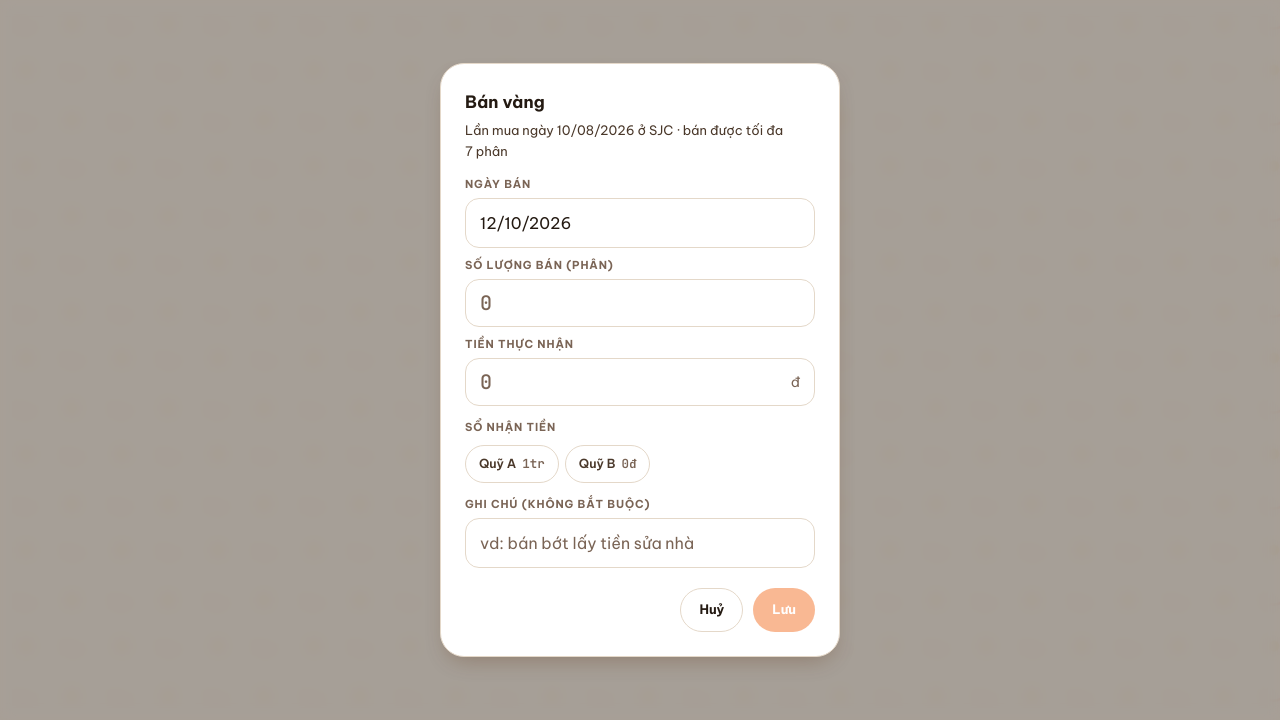
MetalSaleModal › refuses a fractional, zero or too large quantity
The width and height of the screenshot is (1280, 720).
Type "1000000" into the field labelled "Tiền thực nhận".
click(631, 382); type("1000000")  # box [480,359,783,405]
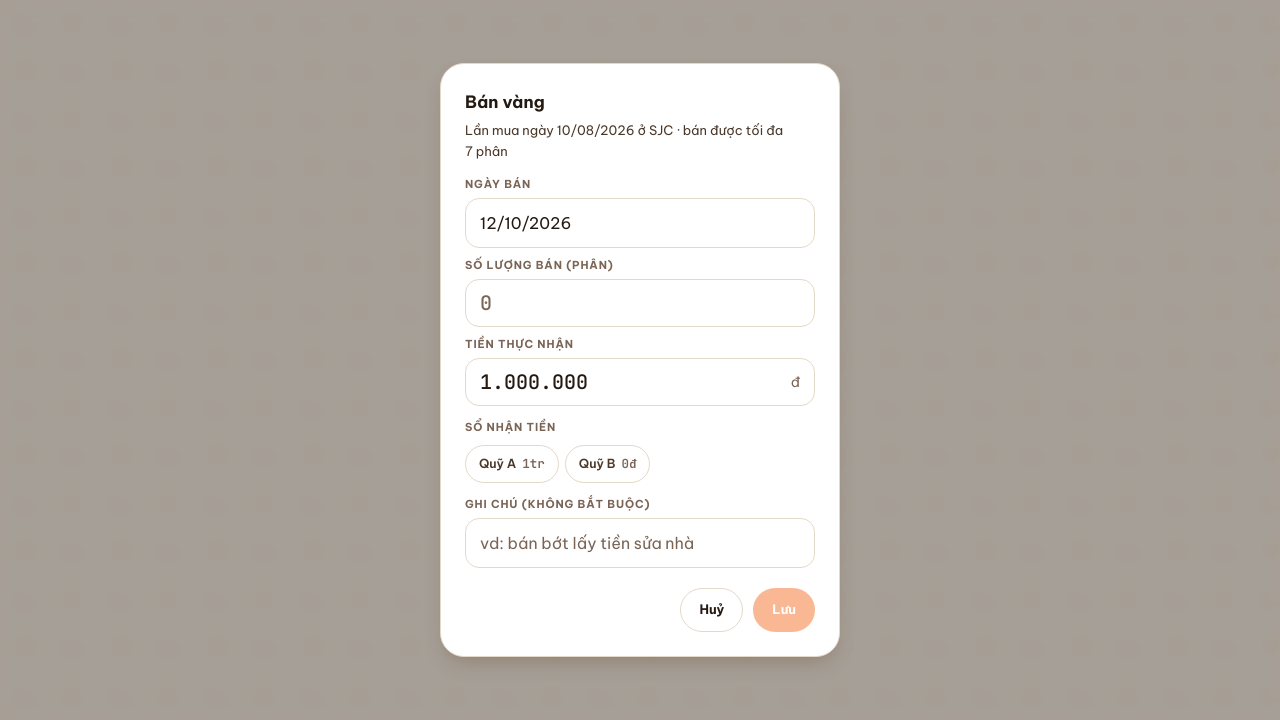
Click the button "Quỹ A1tr".
click(512, 464)  # box [465,445,559,483]
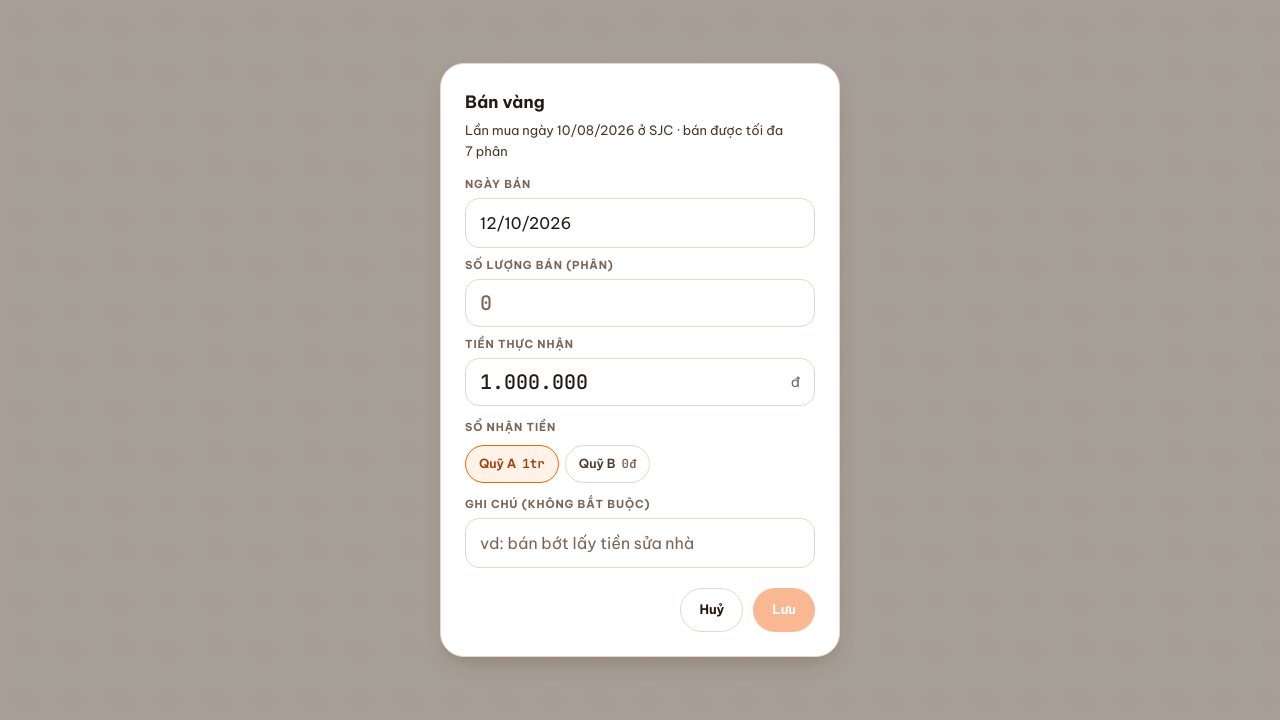
Type "1,5" into the field labelled "Số lượng bán (phân)".
click(640, 303); type("1,5")  # box [480,280,800,326]
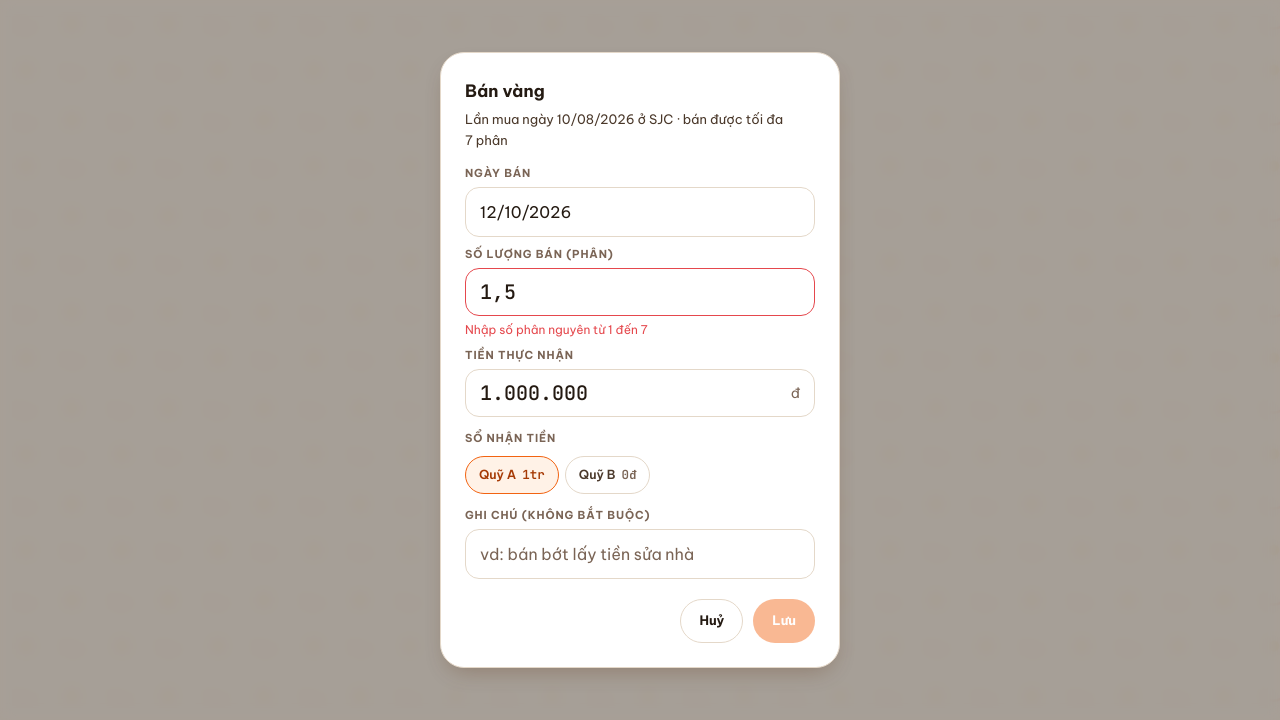
Expected: the button "Lưu" is disabled, [753,599,815,643]
Result: the text "Nhập số phân nguyên từ 1 đến 7" is shown at [465,322,648,337]
Replace the text in the field labelled "Số lượng bán (phân)" with "0" at (640, 292), box [480,269,800,315]
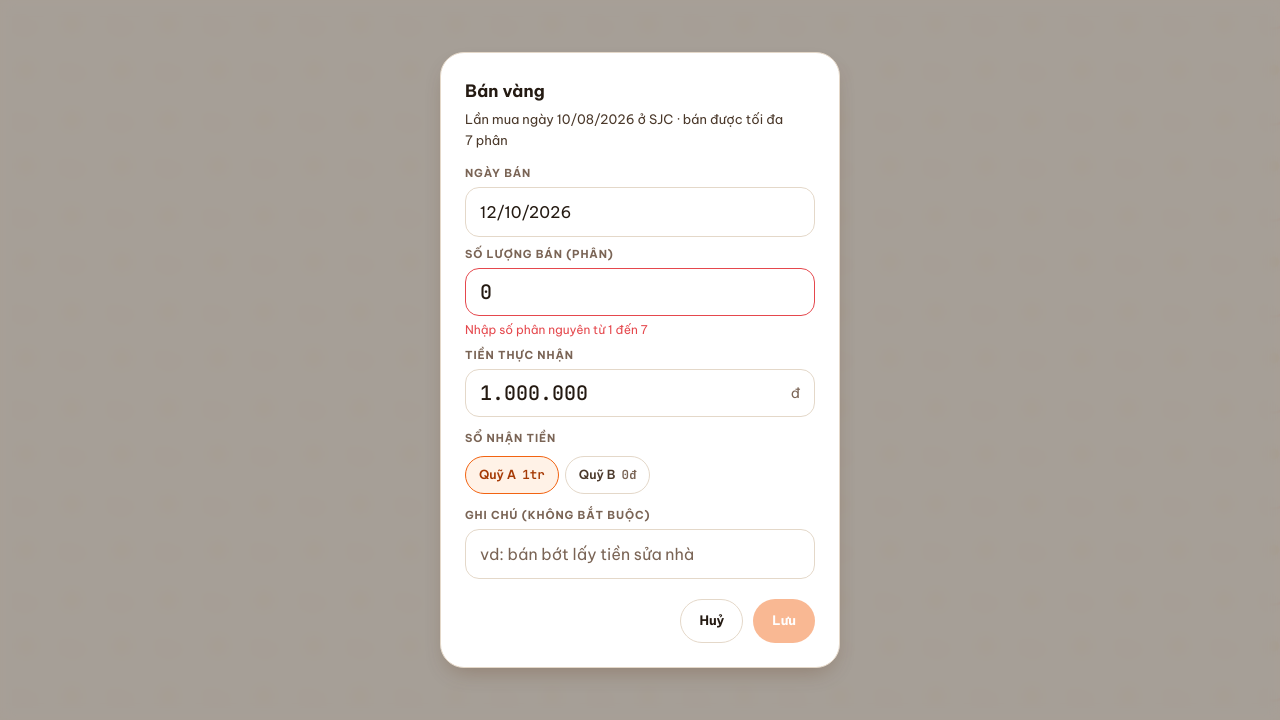
Expected: the button "Lưu" is disabled, [753,599,815,643]
Result: the text "Nhập số phân nguyên từ 1 đến 7" is shown at [465,322,648,337]
Type "8" into the field labelled "Số lượng bán (phân)".
click(640, 292); type("8")  # box [480,269,800,315]
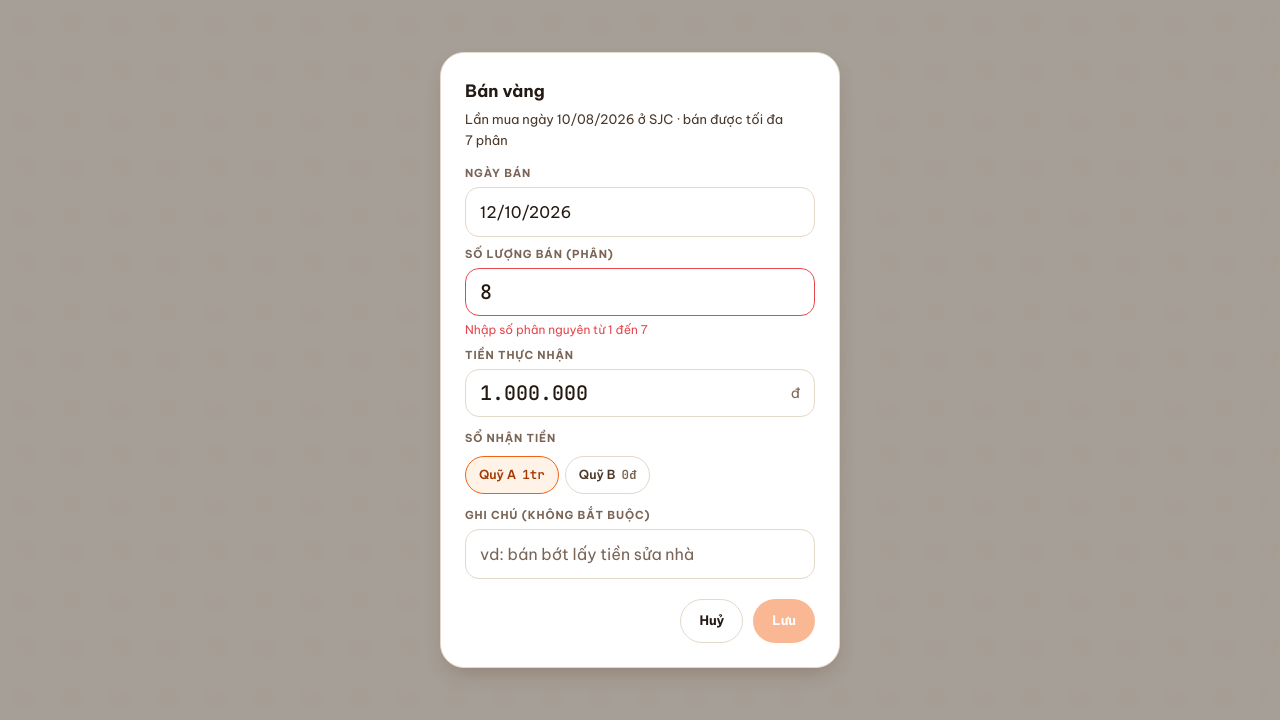
Expected: the button "Lưu" is disabled, [753,599,815,643]
Result: the text "Nhập số phân nguyên từ 1 đến 7" is shown at [465,322,648,337]
Replace the text in the field labelled "Số lượng bán (phân)" with "7" at (640, 292), box [480,269,800,315]
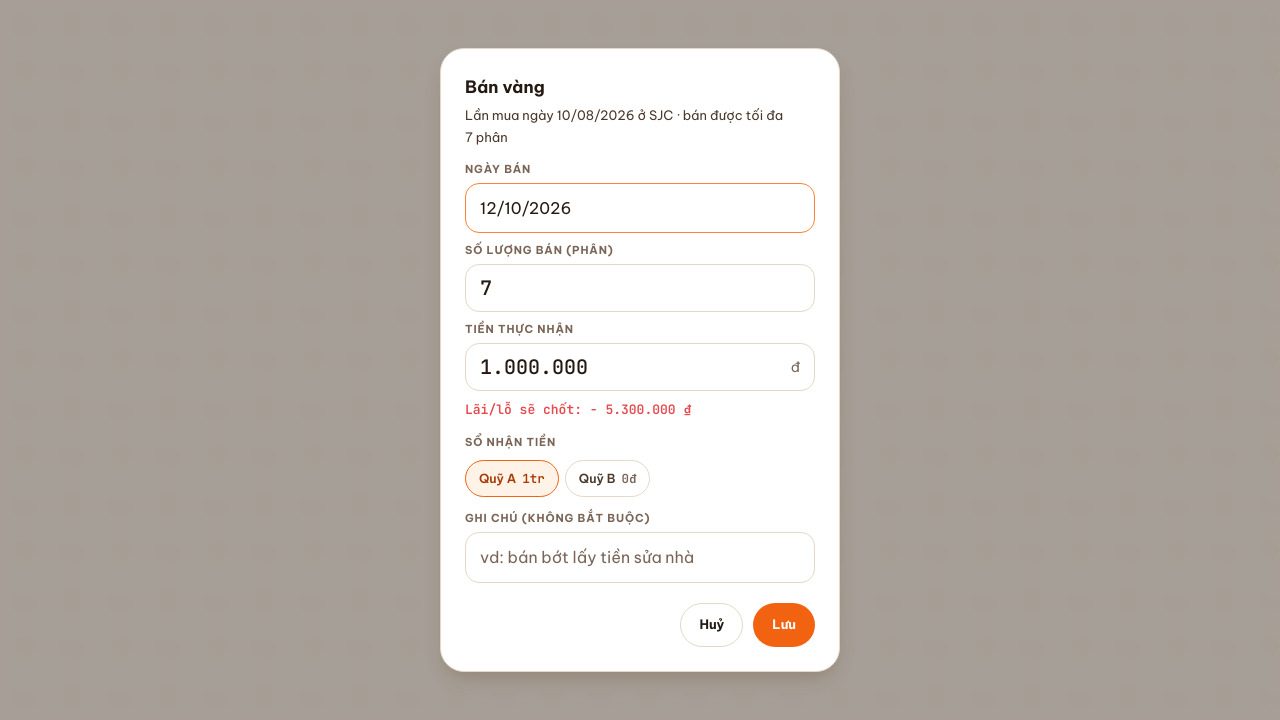
Result: the button "Lưu" is enabled at [753,603,815,647]
